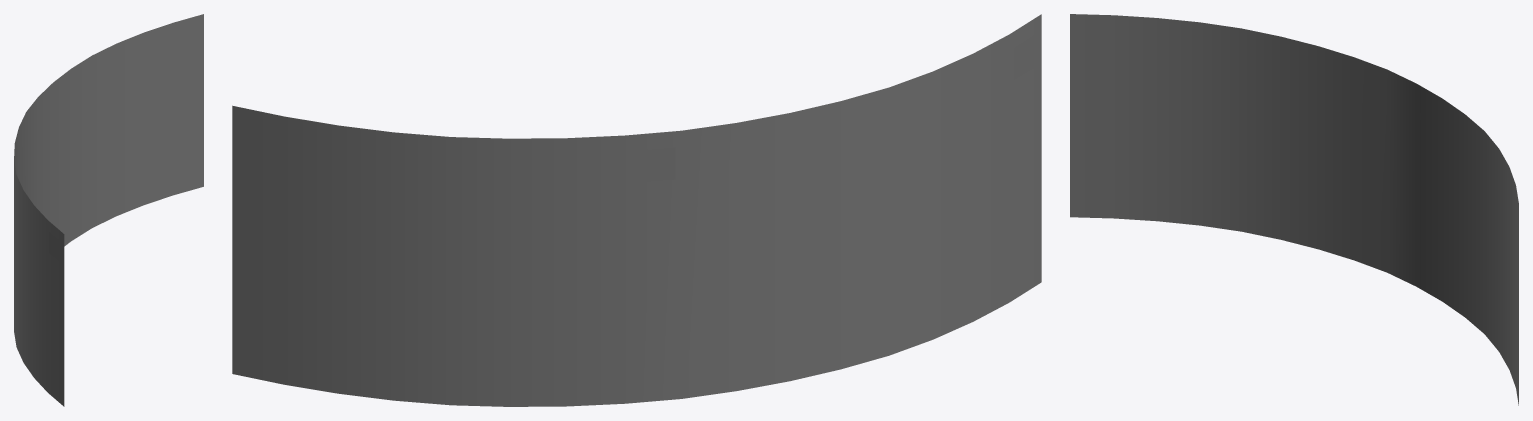
The model's file is q-scifi-mod-shortwall-band2-corner-inner.glb.
3 renders of one model, left to right at view 1: azimuth 30°, elevation 25°; view 2: azimuth 150°, elevation 25°; view 3: azimuth 270°, elevation 25°, orthographic. The views are drawn at different scales.
Parts seen in each view (by area): view 1: ShortWall_Band2_Corner_Inner; view 2: ShortWall_Band2_Corner_Inner; view 3: ShortWall_Band2_Corner_Inner.
Boxes of the visible parts, x1,y1,x2,y2 form: ShortWall_Band2_Corner_Inner: (14,14,203,406); ShortWall_Band2_Corner_Inner: (232,14,1041,406); ShortWall_Band2_Corner_Inner: (1070,14,1518,405).
Bounding box in the file's own units: 4 × 2 × 4.
2 materials, 2 textured.
